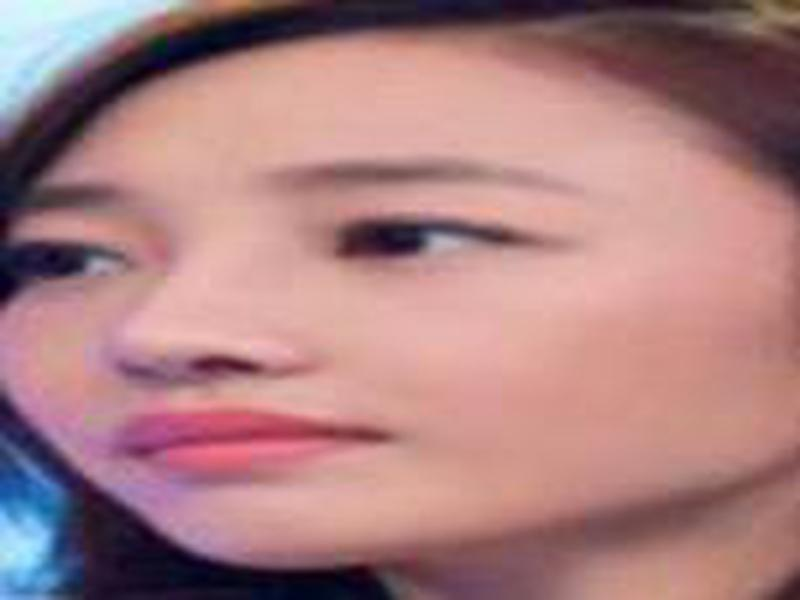without_mask: (1, 140, 800, 564)
